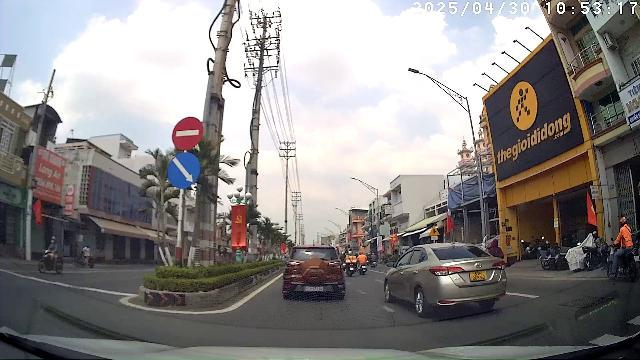102-cam-di-nguoc-chieu: (171, 116, 204, 150)
302a-huong-phai-di-vong-chuong-ngai-vat-1: (167, 151, 201, 189)
